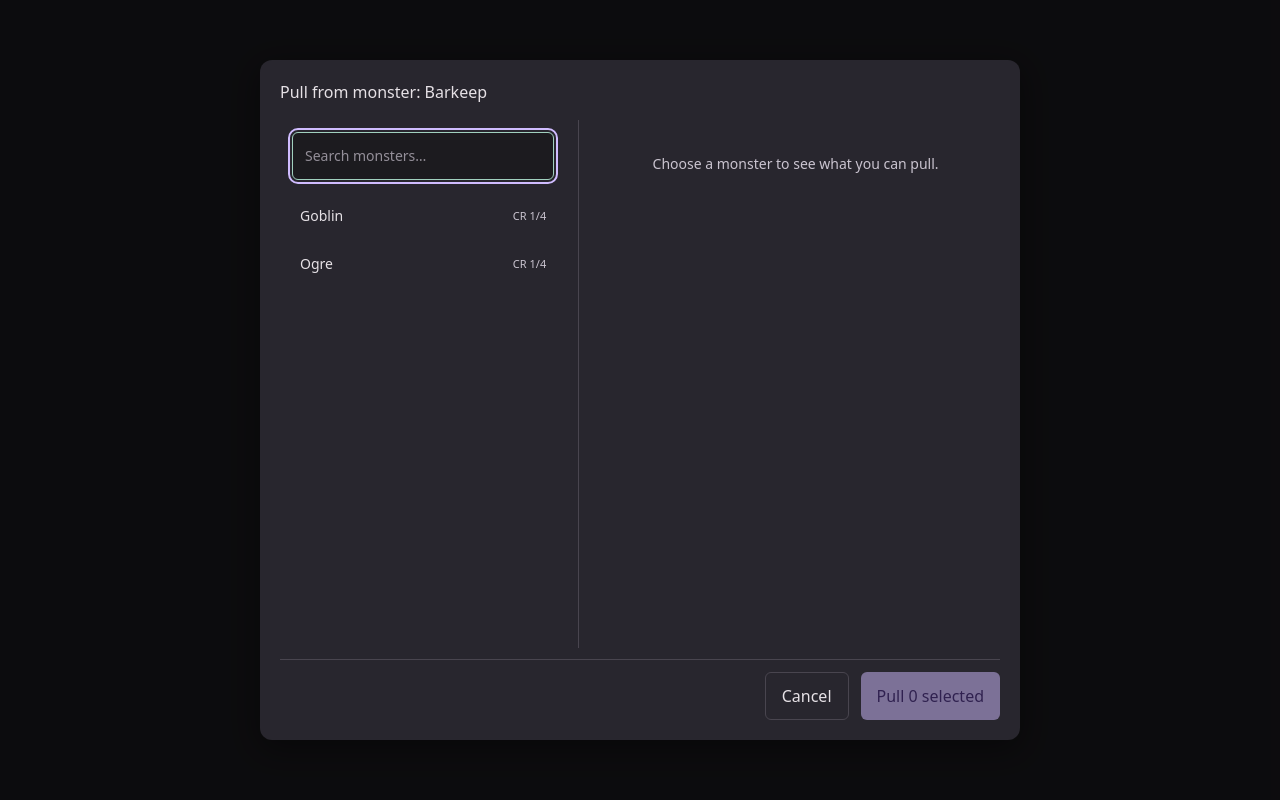
Test: PullFromMonsterDialog › clears staged rows when a different monster is selected
The image size is (1280, 800).
Click the text "Goblin": click(322, 216) x1=300 y1=206 x2=343 y2=226
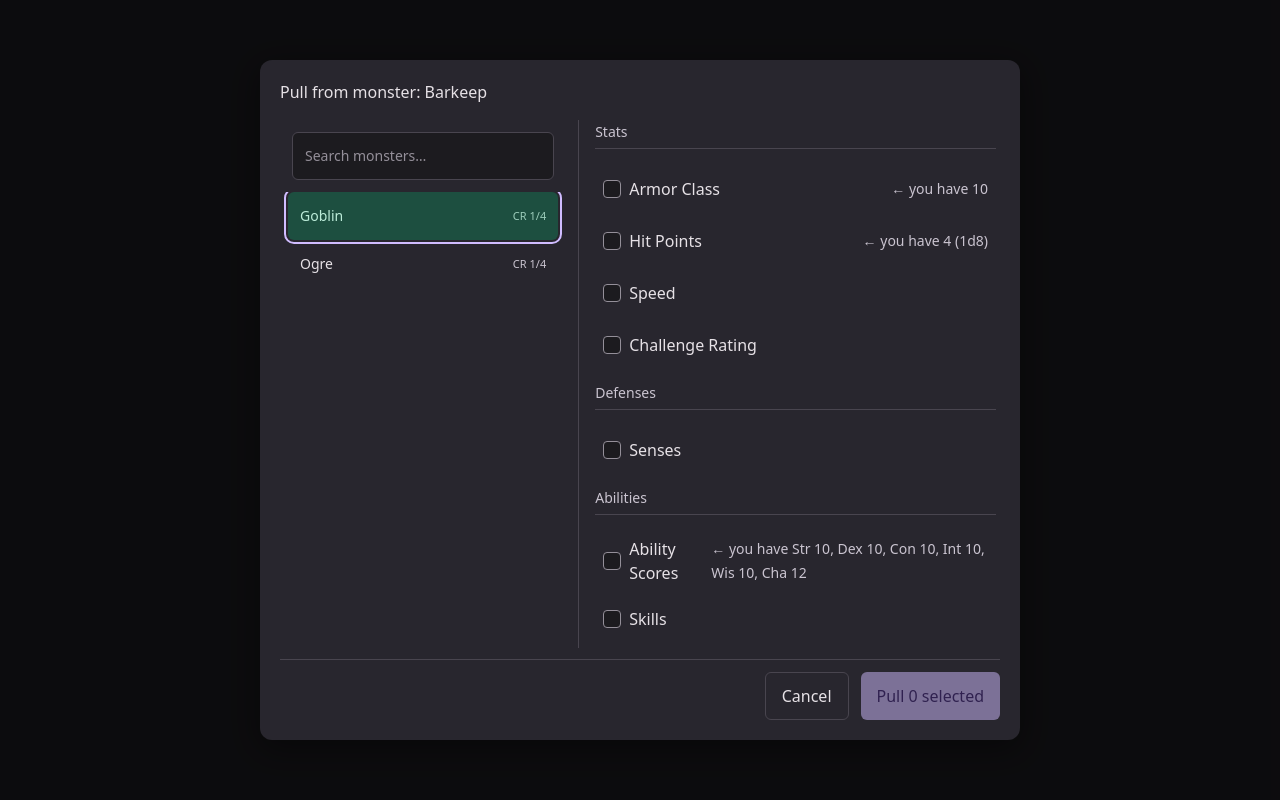
Click the checkbox named "Armor Class" next to "Armor Class": click(612, 189) x1=603 y1=180 x2=621 y2=198
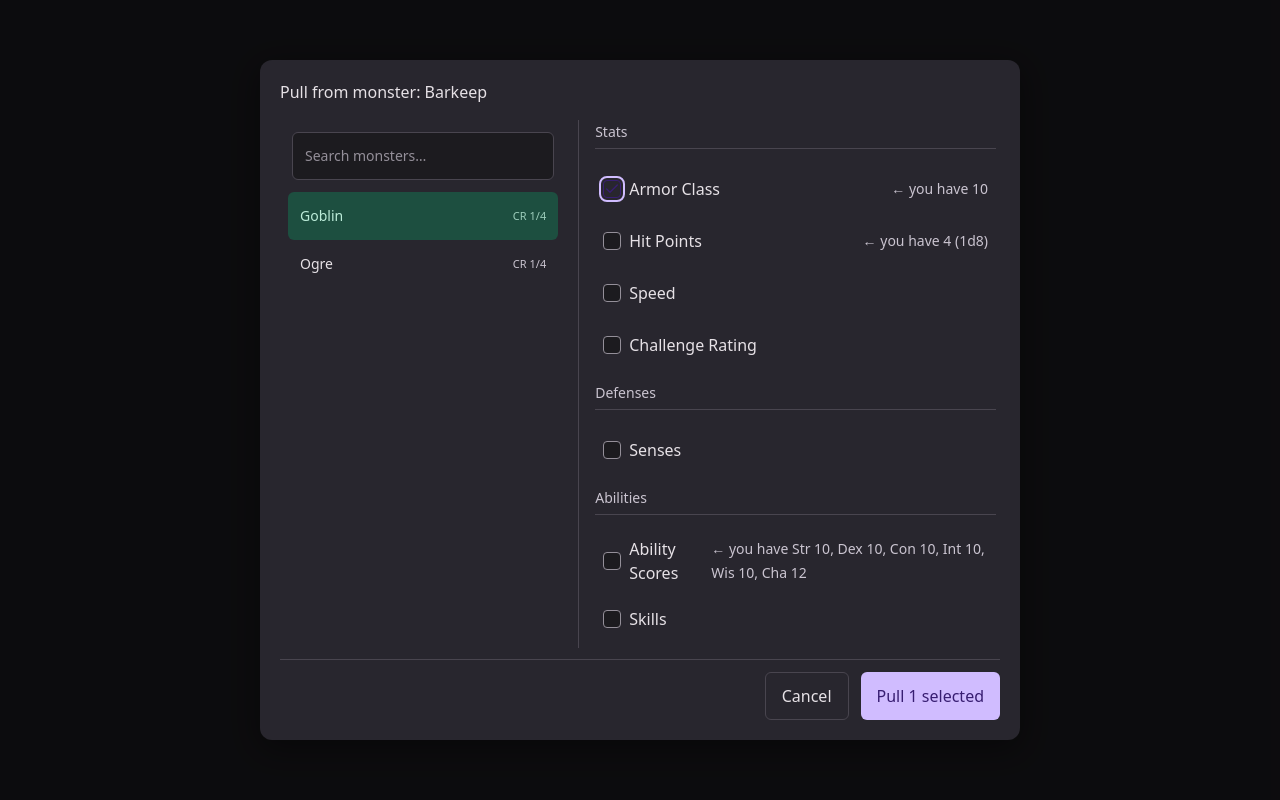
Expected: the button "Pull 1 selected" is enabled, x1=860 y1=672 x2=1000 y2=720
Click the text "Ogre": click(316, 264) x1=300 y1=254 x2=333 y2=274
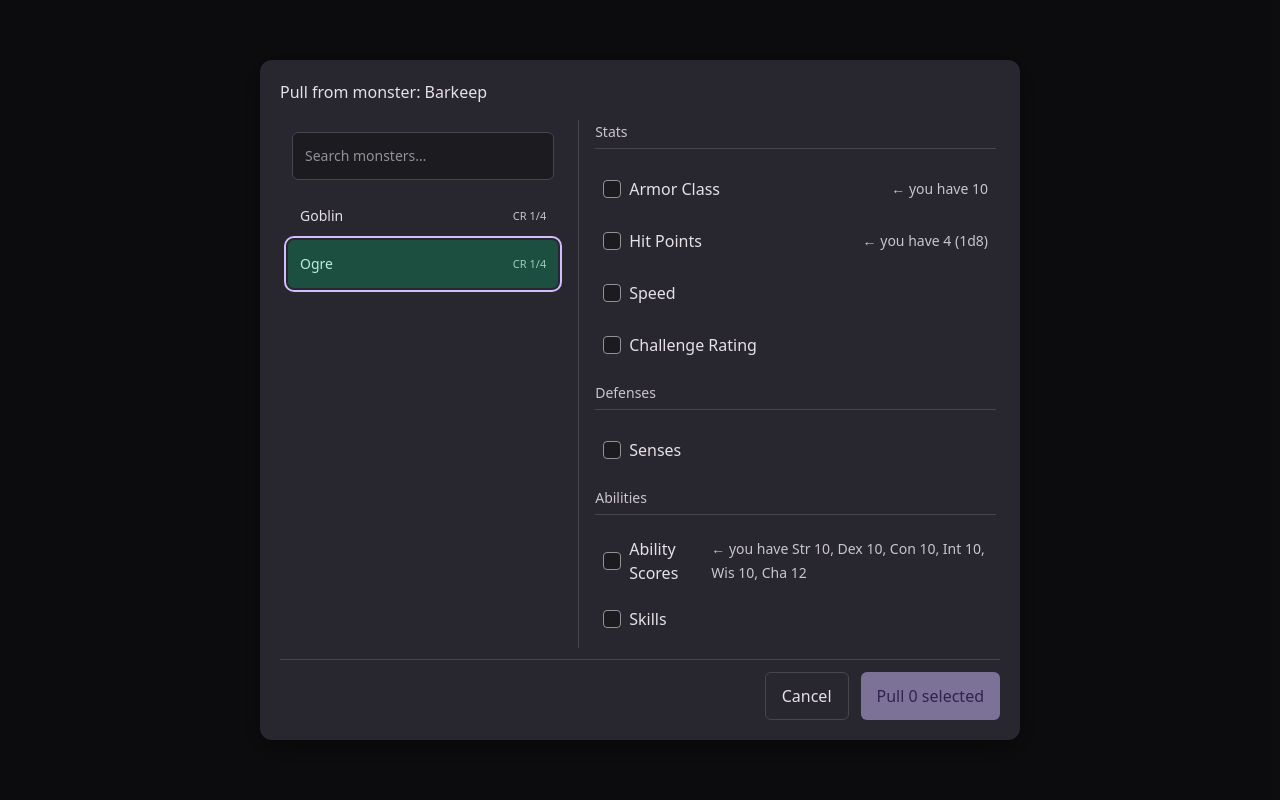
Expected: the checkbox named "Armor Class" next to "Armor Class" is not checked, x1=603 y1=180 x2=621 y2=198
Expected: the button "Pull 0 selected" is disabled, x1=860 y1=672 x2=1000 y2=720
